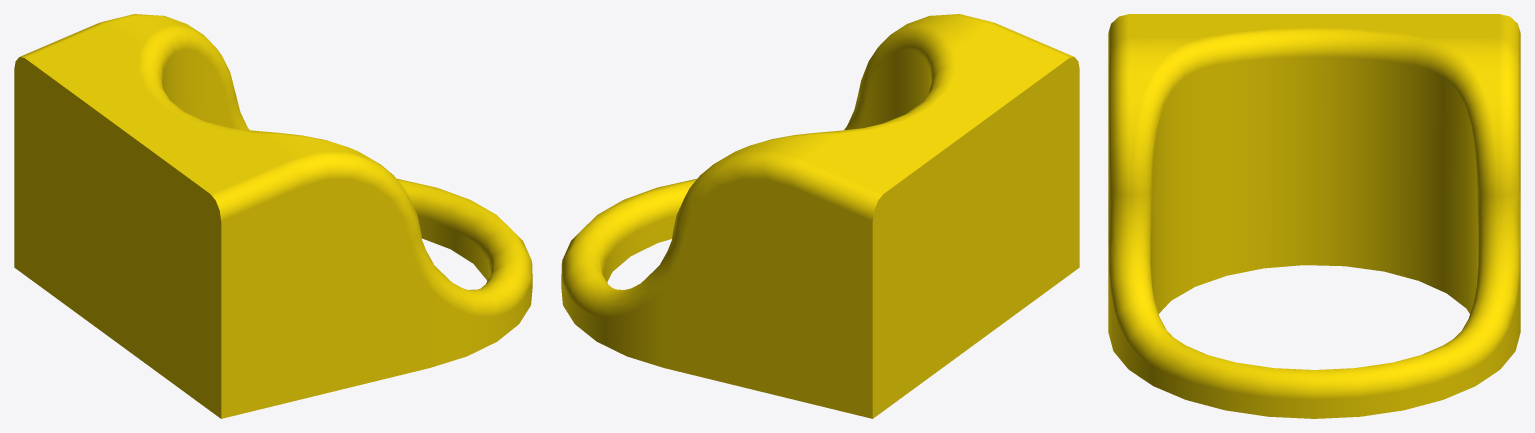
Rendered from Ending.fbx.
3 views of the same model, side by side, from view 1: azimuth 30°, elevation 25°; view 2: azimuth 150°, elevation 25°; view 3: azimuth 270°, elevation 25° (orthographic).
Parts seen in each view (by area): view 1: udløb-obj; view 2: udløb-obj; view 3: udløb-obj.
Boxes of the visible parts, left/top/right/bottom form: udløb-obj: left=14, top=14, right=532, bottom=418; udløb-obj: left=561, top=14, right=1079, bottom=418; udløb-obj: left=1108, top=14, right=1520, bottom=418.
Size of the model in its own units: 105 by 60.84 by 96.9.
